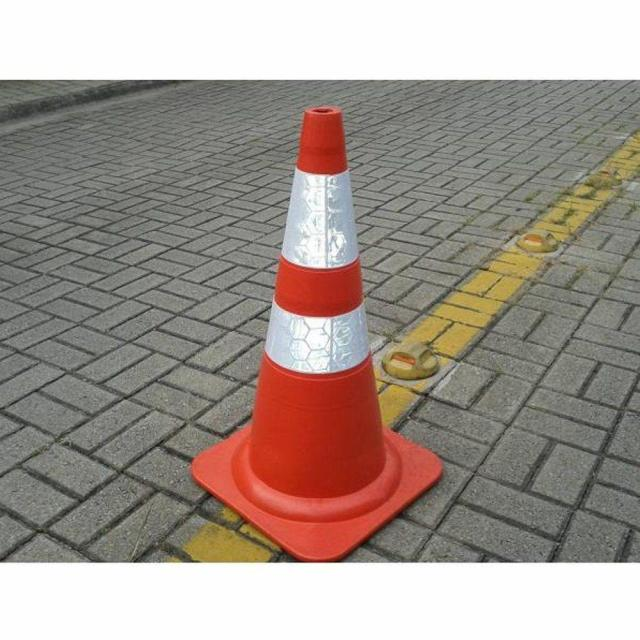cone: (218, 108, 419, 540)
